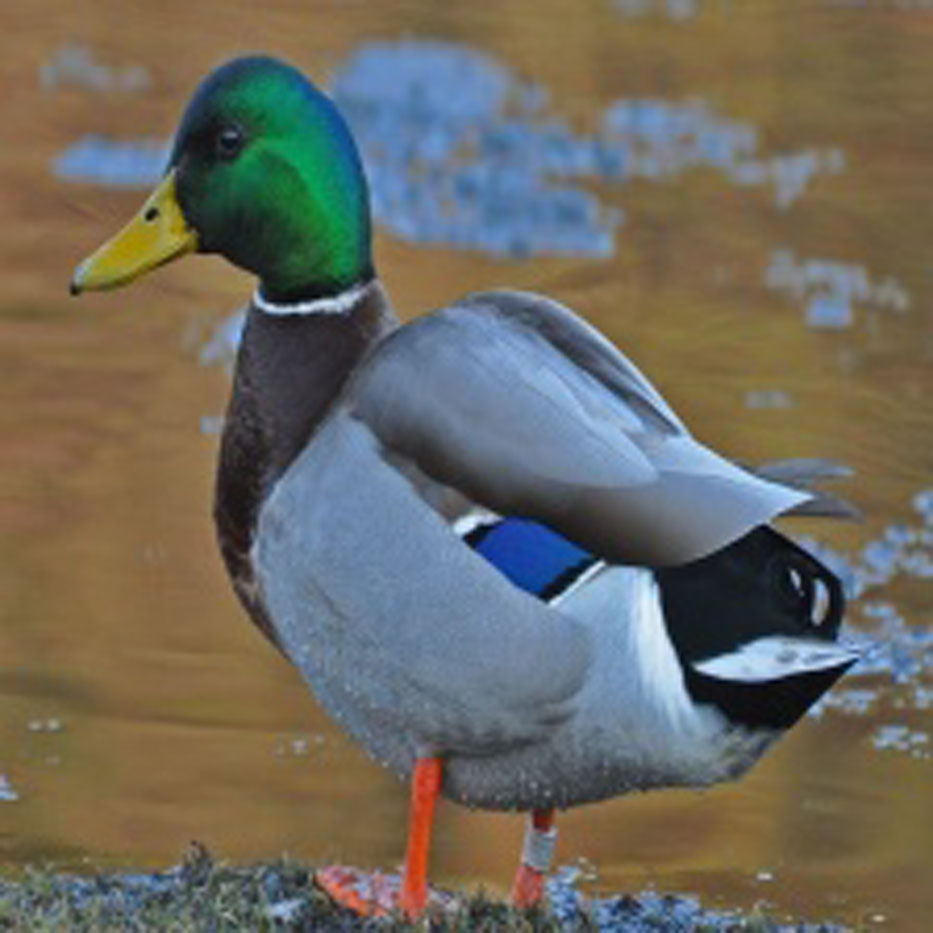Mencari Makan di Lumpur: (50, 181, 200, 302)
